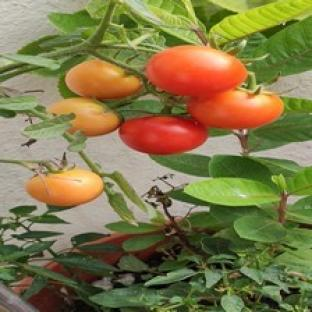Tomato: (147, 45, 247, 96), (187, 90, 284, 129), (119, 116, 208, 154), (66, 60, 142, 100), (26, 169, 104, 206), (48, 98, 122, 136)
